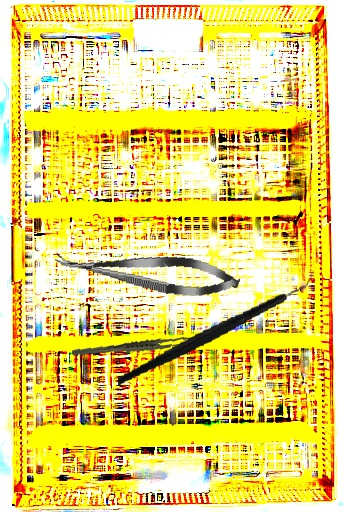Chopper: (106, 266, 325, 388)
Micro Scissor: (52, 241, 242, 303)
Tissue Forceps: (71, 326, 192, 367)
